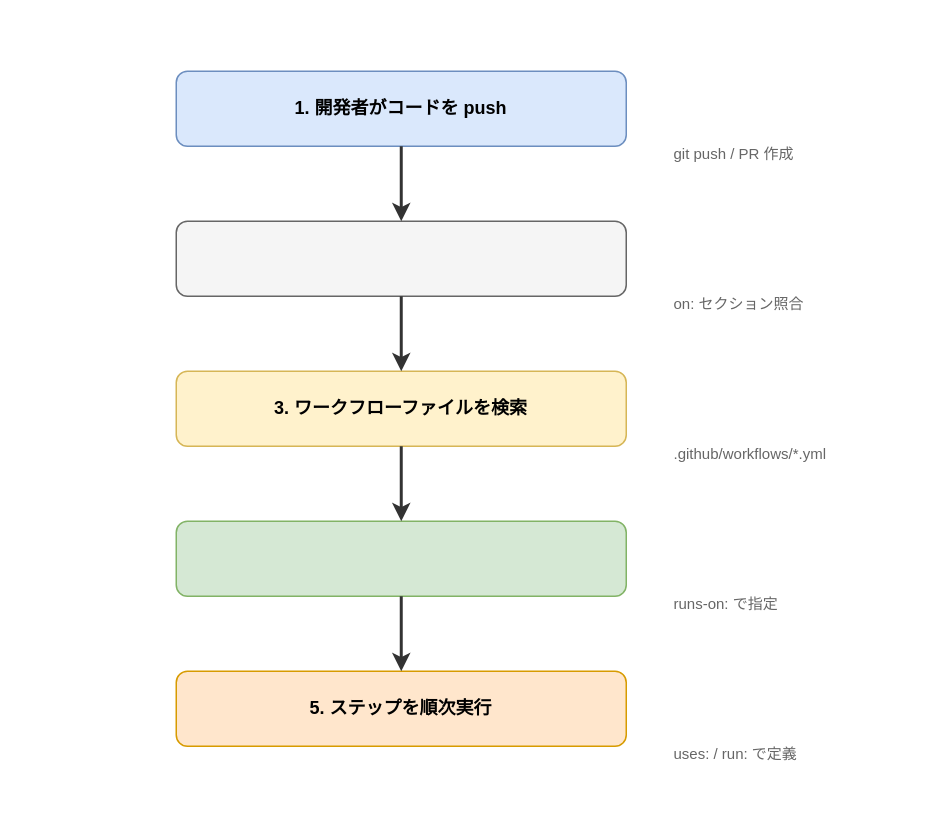
The diagram is 951 pixels wide and 816 high, and some of its shapes have lost their labels. Here are the shapes that lost their labels. From the top down, the box of each, then its label:
(175, 220, 626, 296): 2. GitHub がイベントを検出
(175, 520, 626, 596): 4. Runner を割り当て
